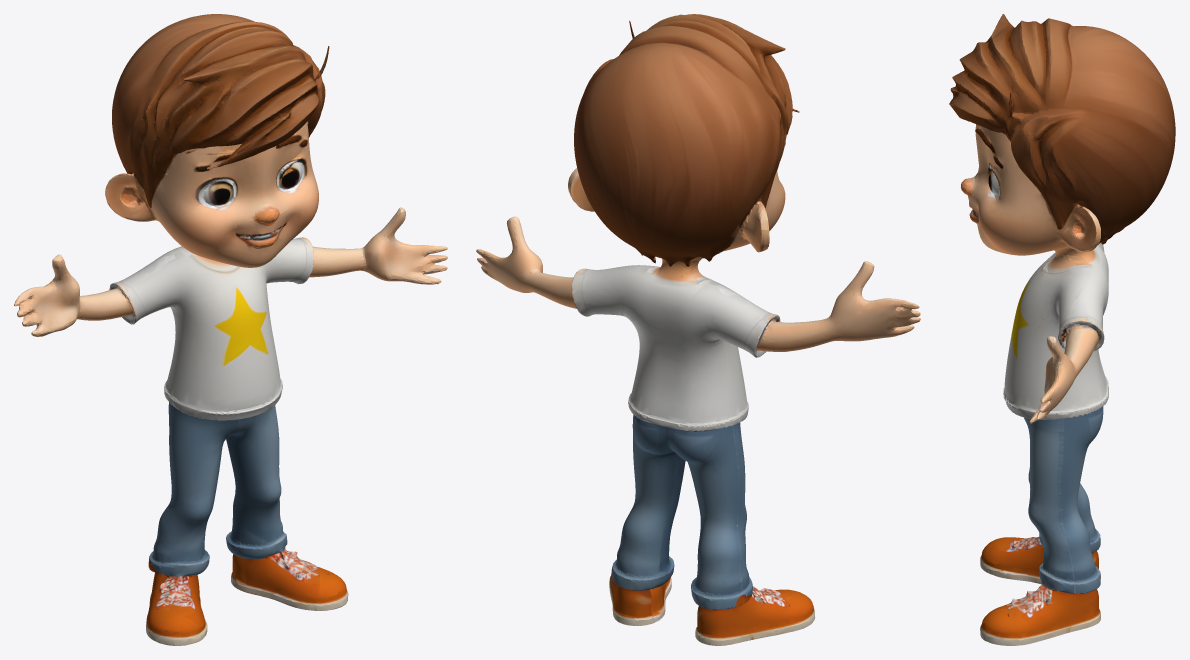
File: virtual_coach.glb
3 views of the same model, side by side, from view 1: azimuth 30°, elevation 25°; view 2: azimuth 150°, elevation 25°; view 3: azimuth 270°, elevation 25° (orthographic). The views are drawn at different scales.
Visible parts, largest first — view 1: Object_2; view 2: Object_2; view 3: Object_2.
Boxes of the visible parts, x1,y1,x2,y2 form: Object_2: (14,14,447,645); Object_2: (476,14,920,645); Object_2: (949,14,1175,645).
Bounding box in the file's own units: 1.5 × 1.9 × 0.6803.
Materials: 1 (1 with a texture image).
